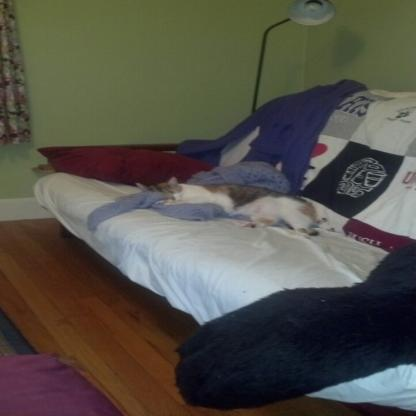Target: (127, 170, 328, 238)
